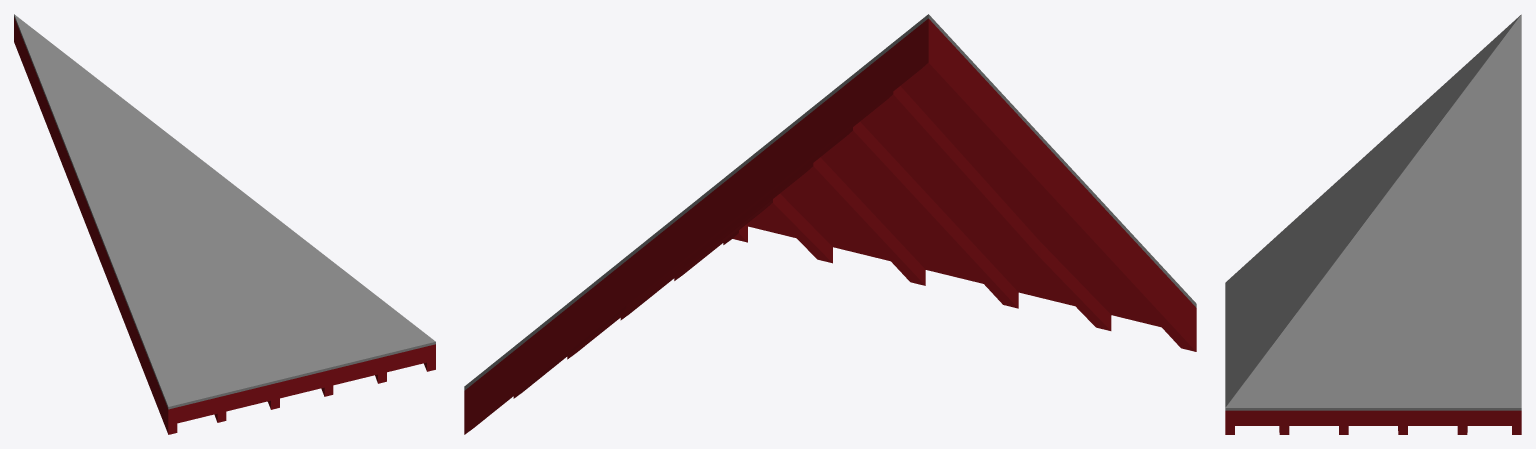
The model's file is SM_MH_01_Slate_Roof_Corner_01.fbx.
3 renders of one model, left to right at view 1: azimuth 30°, elevation 25°; view 2: azimuth 150°, elevation 25°; view 3: azimuth 270°, elevation 25°, orthographic. The views are drawn at different scales.
Visible parts, largest first — view 1: SM_MH_01_Slate_Roof_Corner_01_LOD0; view 2: SM_MH_01_Slate_Roof_Corner_01_LOD0; view 3: SM_MH_01_Slate_Roof_Corner_01_LOD0.
Part boxes in pixels (bbox=[...]): SM_MH_01_Slate_Roof_Corner_01_LOD0: bbox=[14, 14, 435, 434]; SM_MH_01_Slate_Roof_Corner_01_LOD0: bbox=[464, 14, 1196, 434]; SM_MH_01_Slate_Roof_Corner_01_LOD0: bbox=[1225, 14, 1521, 434].
Size of what is drawn, in the model's own units: 300 by 330 by 300.
